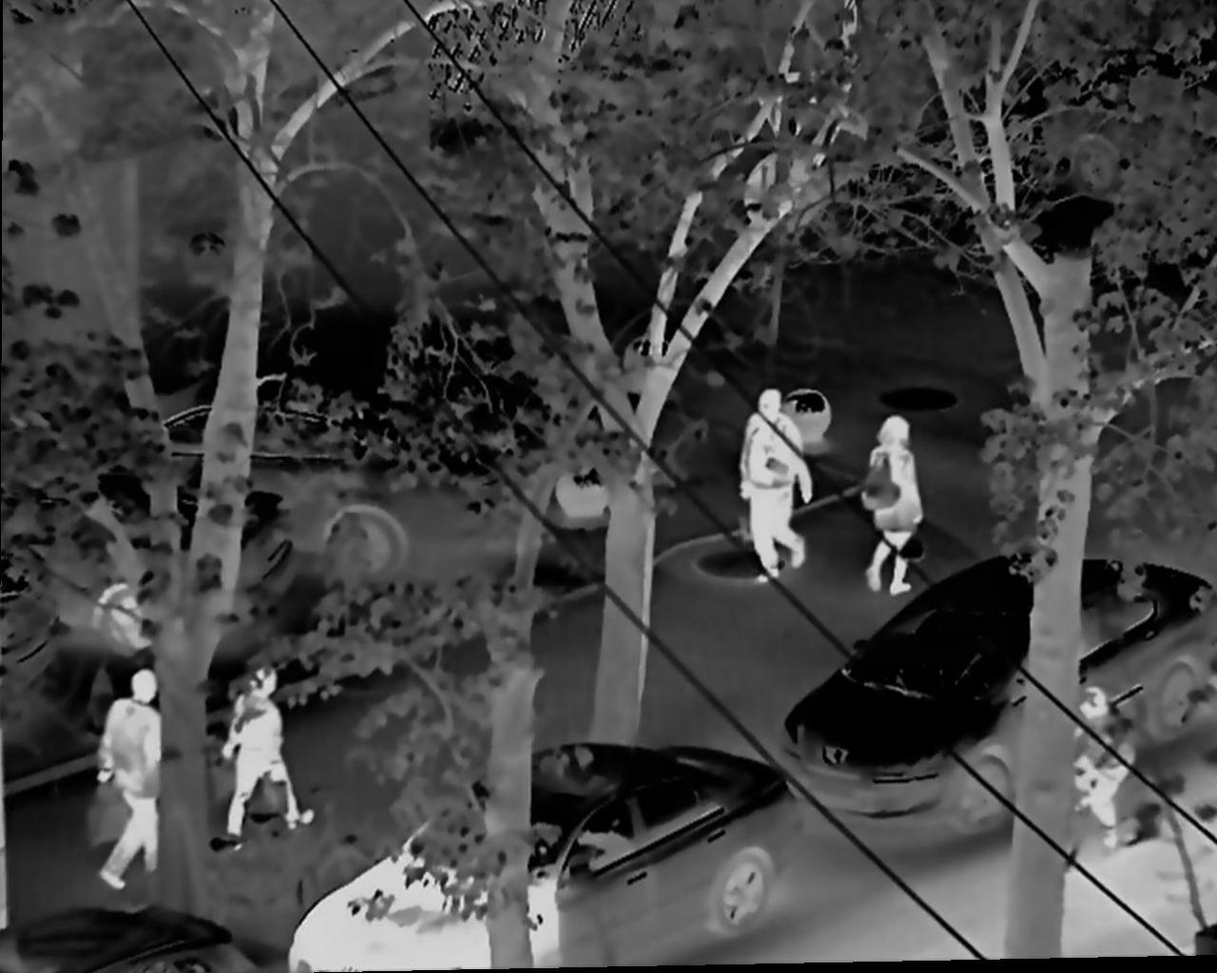person: (222, 666, 318, 836), (96, 663, 163, 892), (740, 385, 813, 586), (854, 410, 919, 599), (1079, 686, 1135, 855)
